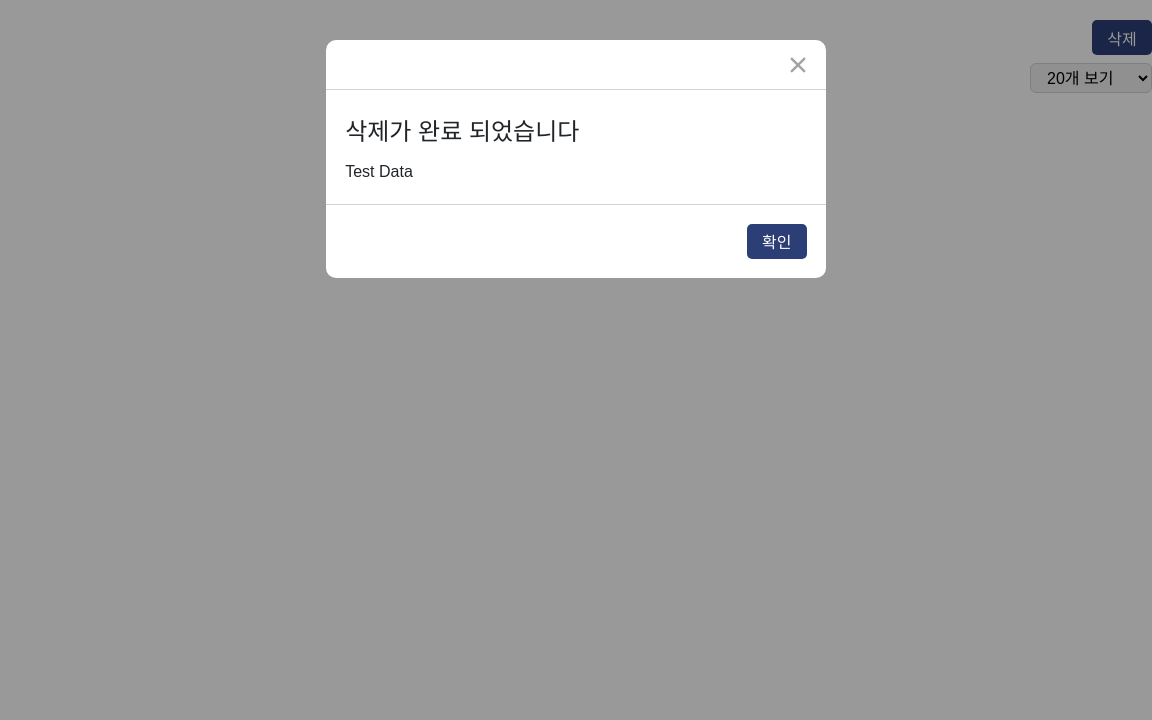
Test: src/layout/table/TableContainer › deleteOrderApi result is NOT empty › render delete request modal component
expect the element with test id "delete-request-result-modal" shows "삭제가 완료 되었습니다": met, box [345,118,579,145]
expect the element with test id "delete-request-result-modal" shows "Test Data": met, box [345,163,413,180]
Click the icon with test id "click-close-modal". click: (798, 64)
box: [778,44,818,84]
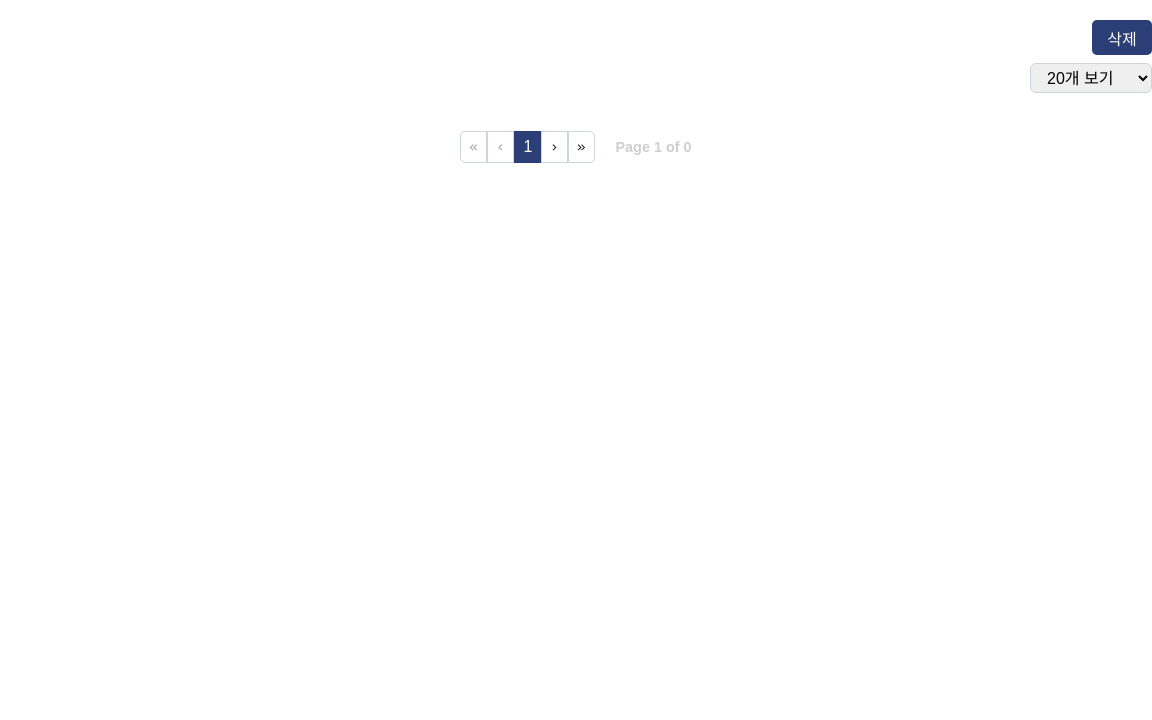
expect the element with test id "delete-request-result-modal" is gone: met
